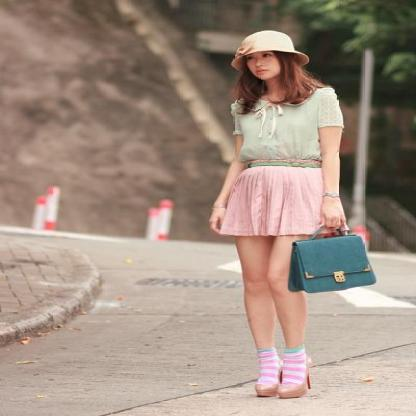bag: (288, 230, 376, 293)
hat: (231, 30, 305, 70)
shirt: (231, 92, 343, 171)
shoe: (255, 384, 308, 398)
skirt: (210, 166, 355, 238)
